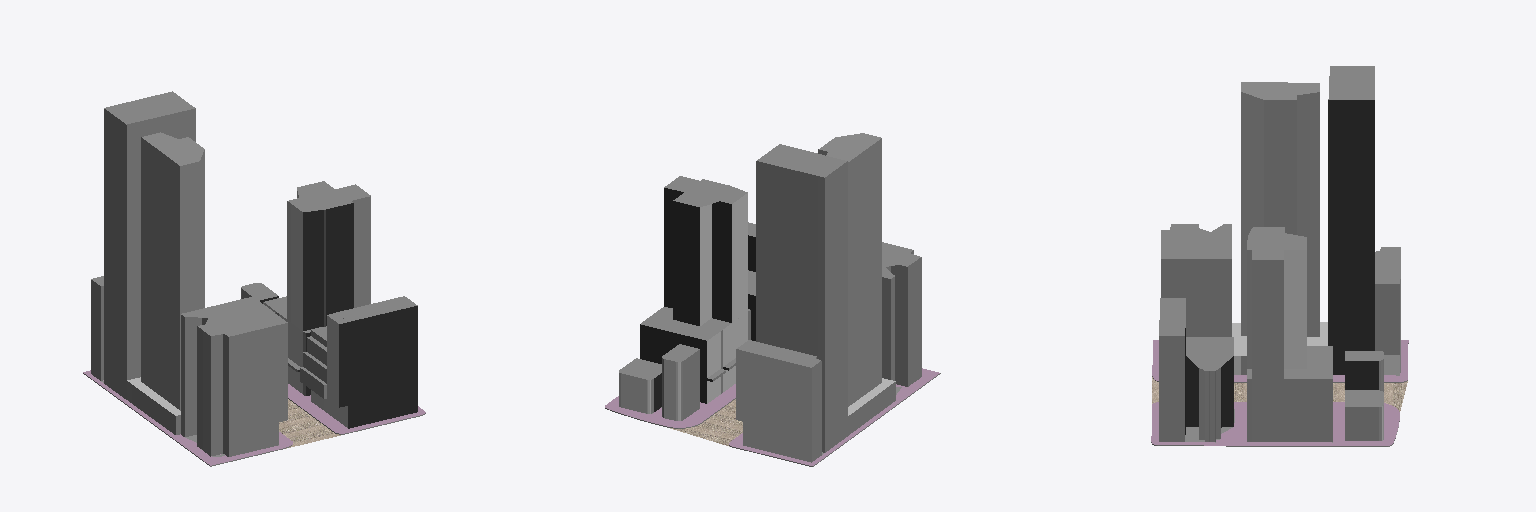
3 views of the same model, side by side, from view 1: azimuth 30°, elevation 25°; view 2: azimuth 150°, elevation 25°; view 3: azimuth 270°, elevation 25° (orthographic).
Parts seen in each view (by area): view 1: Mesh14 Model, Mesh9 skpAE5E1 Model, Mesh2 skpAE5E1 Model, Mesh12 skpAE5E1 Model, Mesh1 skpAE5E1 Model, Mesh7 skpAE5E1 Model; view 2: Mesh2 skpAE5E1 Model, Mesh12 skpAE5E1 Model, Mesh14 Model, Mesh7 skpAE5E1 Model, Mesh9 skpAE5E1 Model, Mesh10 skpAE5E1 Model, Mesh11 skpAE5E1 Model, Mesh1 skpAE5E1 Model; view 3: Mesh14 Model, Mesh12 skpAE5E1 Model, Mesh2 skpAE5E1 Model, Mesh1 skpAE5E1 Model, Mesh9 skpAE5E1 Model, Mesh7 skpAE5E1 Model, Mesh11 skpAE5E1 Model, Mesh10 skpAE5E1 Model.
Part boxes in pixels (x1,y1,x2,y2): Mesh14 Model: (83, 132, 425, 466); Mesh9 skpAE5E1 Model: (127, 297, 287, 456); Mesh2 skpAE5E1 Model: (104, 91, 195, 399); Mesh12 skpAE5E1 Model: (263, 181, 370, 395); Mesh1 skpAE5E1 Model: (300, 296, 417, 428); Mesh7 skpAE5E1 Model: (91, 276, 103, 380); Mesh2 skpAE5E1 Model: (756, 144, 847, 452); Mesh12 skpAE5E1 Model: (640, 176, 750, 403); Mesh14 Model: (605, 133, 940, 466); Mesh7 skpAE5E1 Model: (736, 340, 821, 462); Mesh9 skpAE5E1 Model: (848, 242, 921, 435); Mesh10 skpAE5E1 Model: (662, 344, 699, 420); Mesh11 skpAE5E1 Model: (619, 358, 661, 413); Mesh1 skpAE5E1 Model: (748, 222, 755, 340); Mesh14 Model: (1151, 82, 1408, 446); Mesh12 skpAE5E1 Model: (1247, 227, 1332, 441); Mesh2 skpAE5E1 Model: (1328, 66, 1374, 374); Mesh1 skpAE5E1 Model: (1159, 298, 1233, 441); Mesh9 skpAE5E1 Model: (1161, 224, 1327, 374); Mesh7 skpAE5E1 Model: (1375, 247, 1400, 375); Mesh11 skpAE5E1 Model: (1345, 390, 1383, 440); Mesh10 skpAE5E1 Model: (1345, 351, 1383, 391).
Size of the model in its own units: 48.16 by 58.5 by 49.16.
Materials: 9 (1 with a texture image).